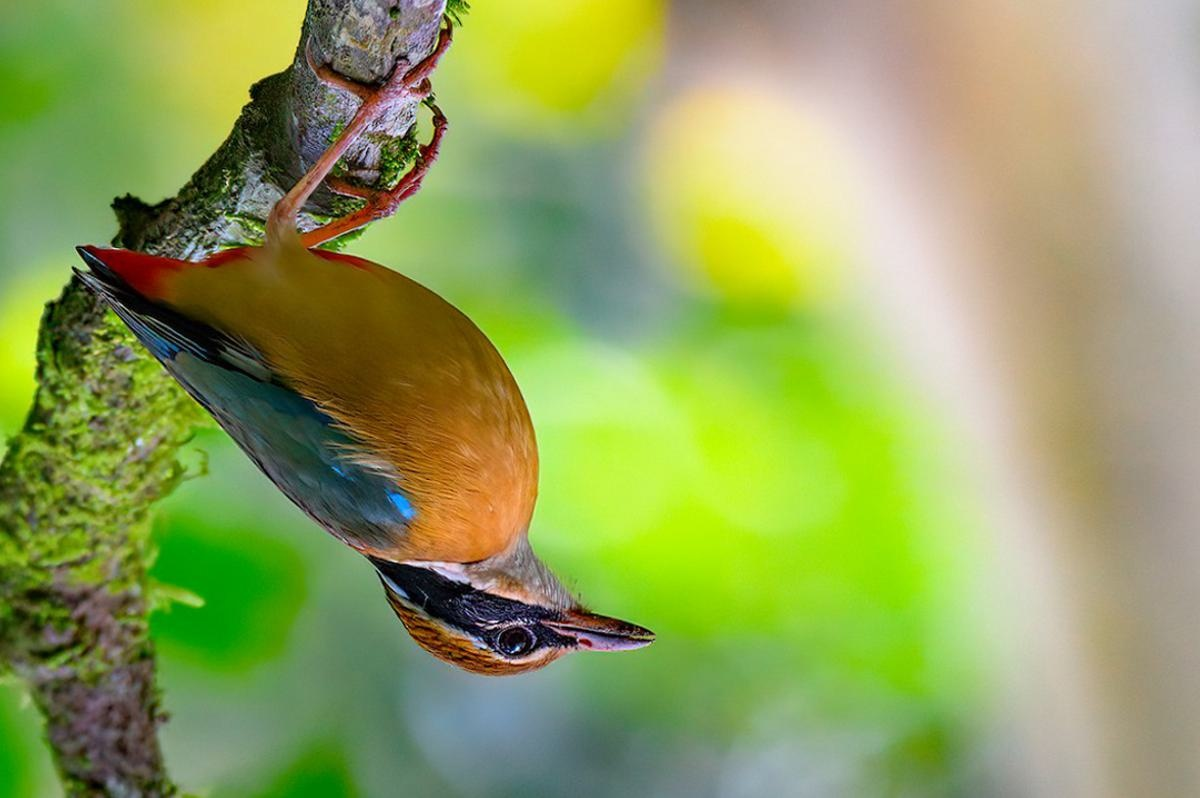pitta: (77, 125, 671, 696)
